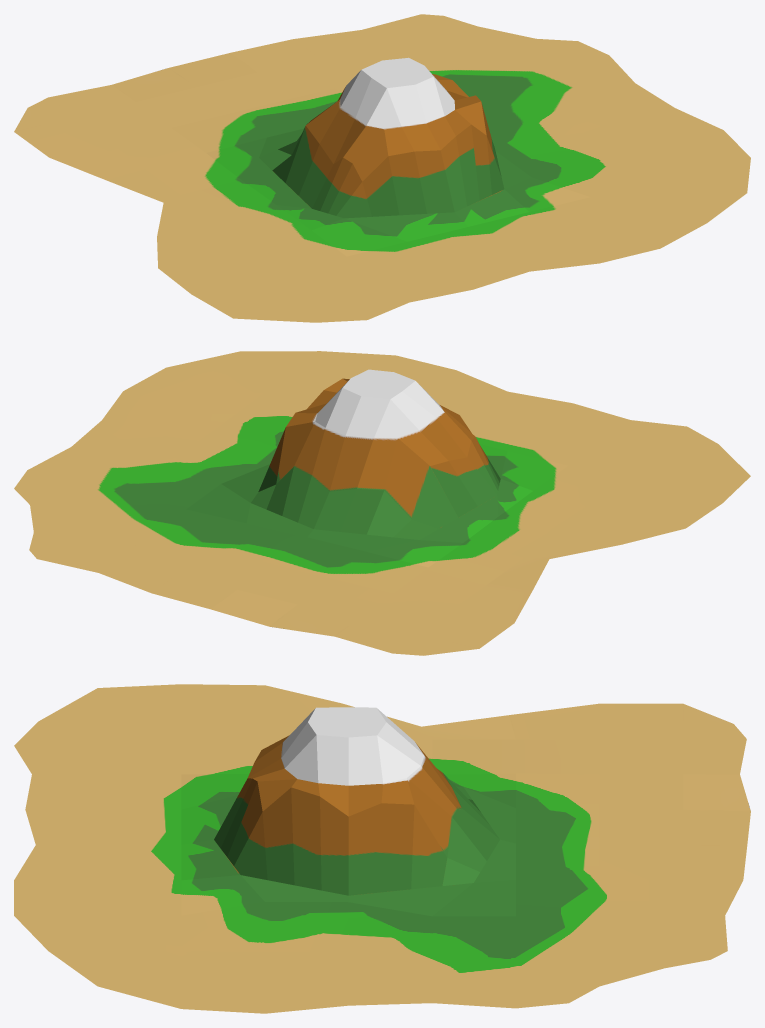
File: montana.obj
The picture shows the model from 3 angles, top to bottom: view 1: azimuth 30°, elevation 25°; view 2: azimuth 150°, elevation 25°; view 3: azimuth 270°, elevation 25°; orthographic projection. The views are drawn at different scales.
Visible parts, largest first — view 1: TERRENO; view 2: TERRENO; view 3: TERRENO.
Boxes of the visible parts, x1,y1,x2,y2 form: TERRENO: (14, 14, 750, 322); TERRENO: (14, 351, 750, 655); TERRENO: (14, 684, 750, 1013).
Size of the model in its own units: 857 by 151 by 810.
1 material, 1 textured.
